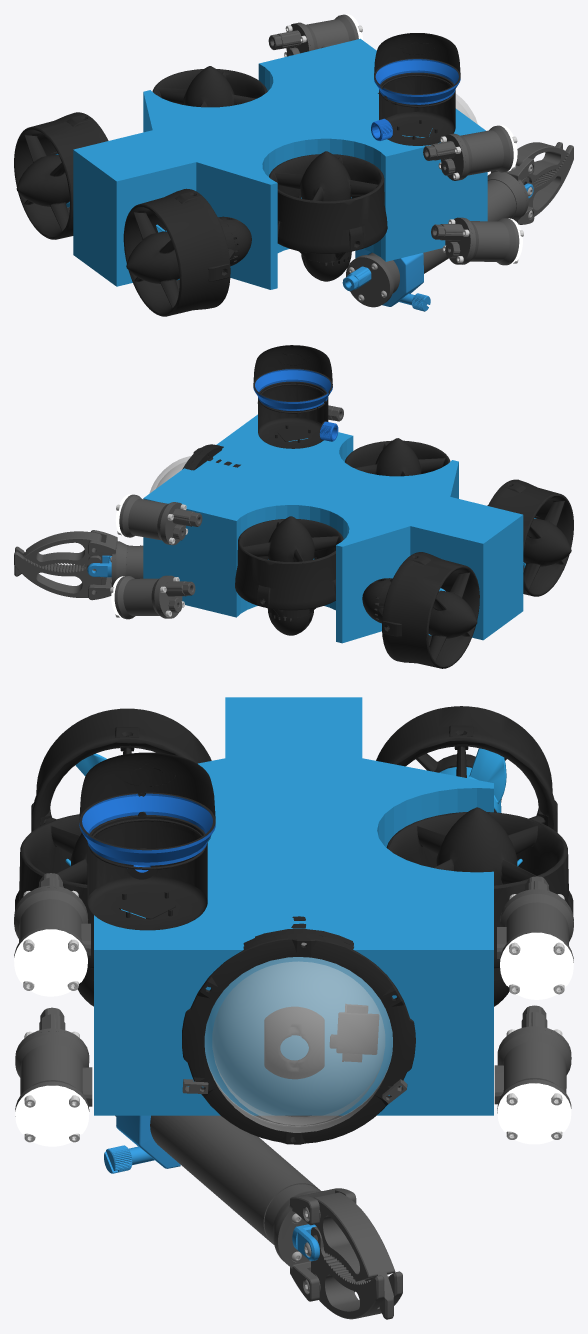
Rendered from SIMPLEROV_4.glb.
3 renders of one model, top to bottom at view 1: azimuth 30°, elevation 25°; view 2: azimuth 150°, elevation 25°; view 3: azimuth 270°, elevation 25°, orthographic. The views are drawn at different scales.
Parts seen in each view (by area): view 1: Cube, motor3, motor6.standard, LUMEN-ASM-R3-PUBLIC.049, NEWTON_GRIPPER, PING360.001, motor4, motor6.standard.001; view 2: Cube, motor4, motor6.standard.001, PING360.001, LUMEN-ASM-R3-PUBLIC.049, NEWTON_GRIPPER, motor3, motor6.standard, BROV2-HEAVY-ASM-BROV2-HEAVY-R1.065, BROV2-HEAVY-ASM-BROV2-HEAVY-R1.067; view 3: Cube, LUMEN-ASM-R3-PUBLIC.049, BROV2-HEAVY-ASM-BROV2-HEAVY-R1.065, NEWTON_GRIPPER, PING360.001, BROV2-HEAVY-ASM-BROV2-HEAVY-R1.066, motor6.standard.001, motor4, motor3, BROV2-HEAVY-ASM-BROV2-HEAVY-R1.001, motor6.standard, BROV2-HEAVY-ASM-BROV2-HEAVY-R1.067.
Part boxes in pixels (<box>): Cube: <box>73,38,487,289</box>; motor3: <box>123,188,251,316</box>; motor6.standard: <box>269,151,387,281</box>; LUMEN-ASM-R3-PUBLIC.049: <box>268,14,523,265</box>; NEWTON_GRIPPER: <box>342,142,573,311</box>; PING360.001: <box>371,33,460,145</box>; motor4: <box>14,112,108,239</box>; motor6.standard.001: <box>152,66,267,107</box>; Cube: <box>143,414,523,643</box>; motor4: <box>362,552,479,668</box>; motor6.standard.001: <box>235,516,343,635</box>; PING360.001: <box>253,345,338,448</box>; LUMEN-ASM-R3-PUBLIC.049: <box>110,402,343,619</box>; NEWTON_GRIPPER: <box>14,530,143,600</box>; motor3: <box>487,479,573,596</box>; motor6.standard: <box>345,438,450,476</box>; BROV2-HEAVY-ASM-BROV2-HEAVY-R1.065: <box>149,455,191,492</box>; BROV2-HEAVY-ASM-BROV2-HEAVY-R1.067: <box>188,445,231,470</box>; Cube: <box>94,697,493,1115</box>; LUMEN-ASM-R3-PUBLIC.049: <box>14,873,573,1146</box>; BROV2-HEAVY-ASM-BROV2-HEAVY-R1.065: <box>205,942,392,1132</box>; NEWTON_GRIPPER: <box>104,1115,402,1319</box>; PING360.001: <box>79,752,215,930</box>; BROV2-HEAVY-ASM-BROV2-HEAVY-R1.066: <box>182,933,415,1144</box>; motor6.standard.001: <box>386,807,573,1006</box>; motor4: <box>376,706,557,832</box>; motor3: <box>31,708,211,831</box>; BROV2-HEAVY-ASM-BROV2-HEAVY-R1.001: <box>264,1004,378,1078</box>; motor6.standard: <box>15,814,93,1006</box>; BROV2-HEAVY-ASM-BROV2-HEAVY-R1.067: <box>243,923,353,1125</box>.
Bounding box in the file's own units: 0.4815 × 0.2215 × 0.2801.
